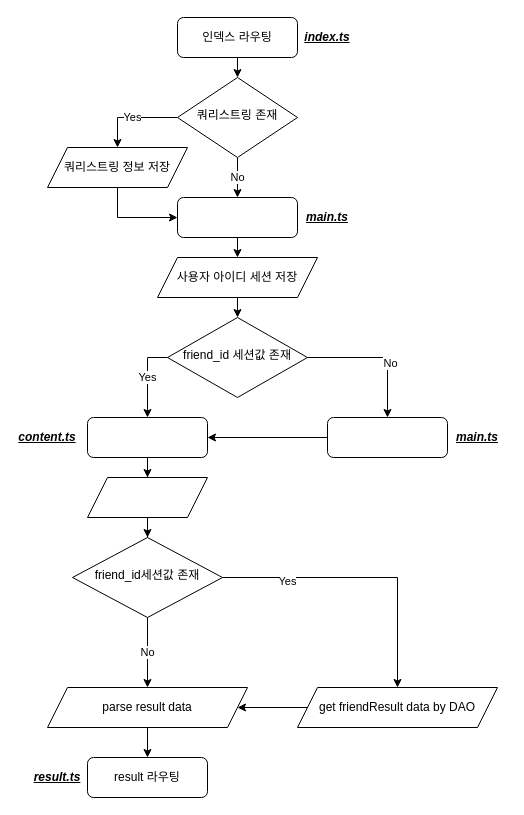
The diagram is 524 pixels wide and 815 high, and some of its shapes have lost their labels. The shapes that lost their labels are listed below. From the top down, each one's centre as x and y in pixels, then its label:
At [237,217]: "main post 라우팅".
At [147,437]: "content 라우팅".
At [387,437]: "main get 라우팅".
At [147,497]: "result 결과 파싱".
